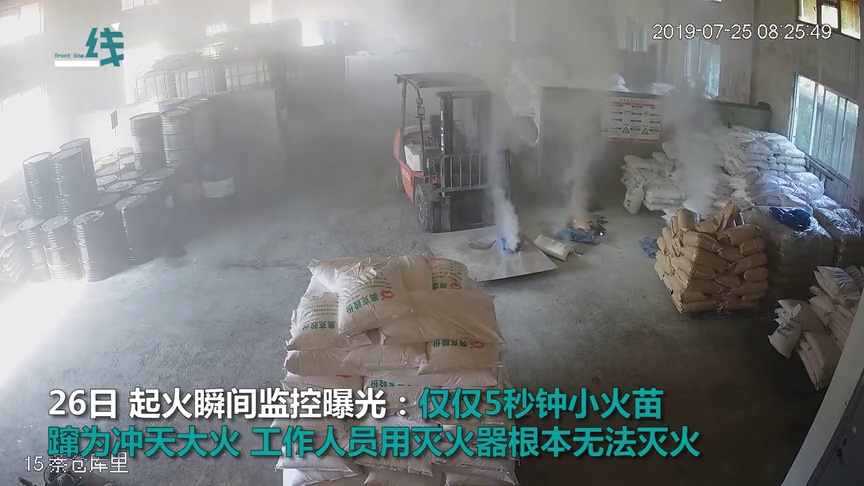smoke: (664, 94, 718, 218), (479, 119, 525, 244), (547, 99, 593, 215)
